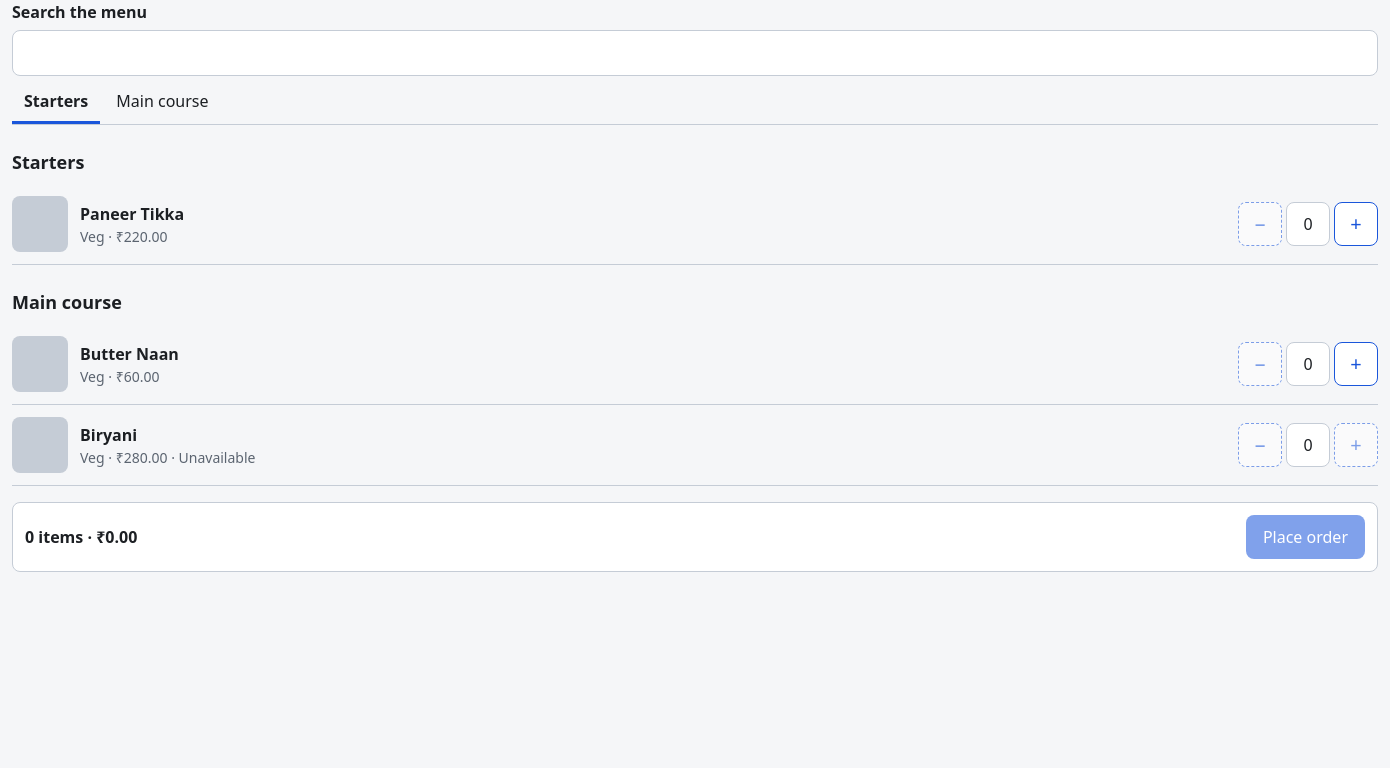
it: RestaurantPage: the quantity field › keeps a typed quantity at the limit
The width and height of the screenshot is (1390, 768).
(page scrolled)
Replace the text in the field named "Number of Butter Naan" with "75" at (1308, 364), box [1286,342,1330,386]
(page scrolled)
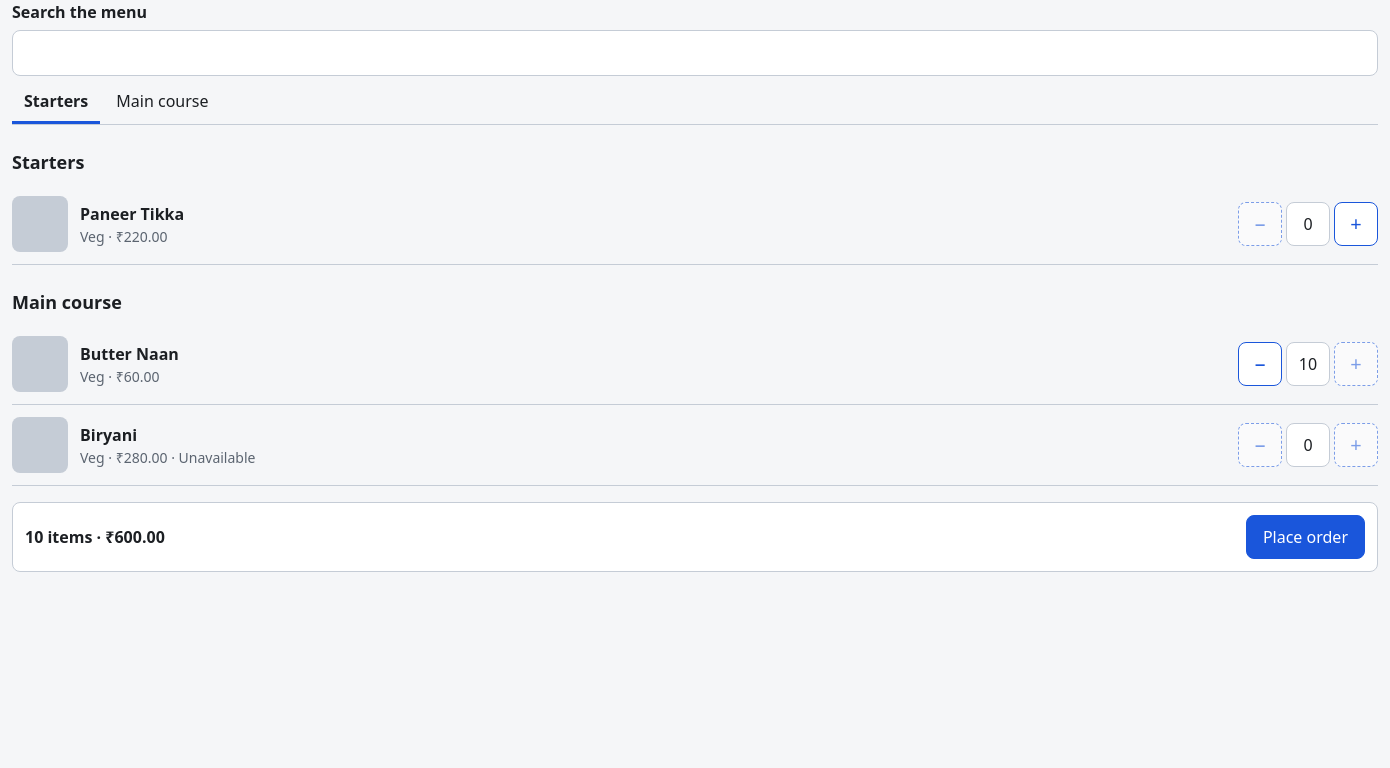
expect the field named "Number of Butter Naan" holds "10": met, box [1286,342,1330,386]
